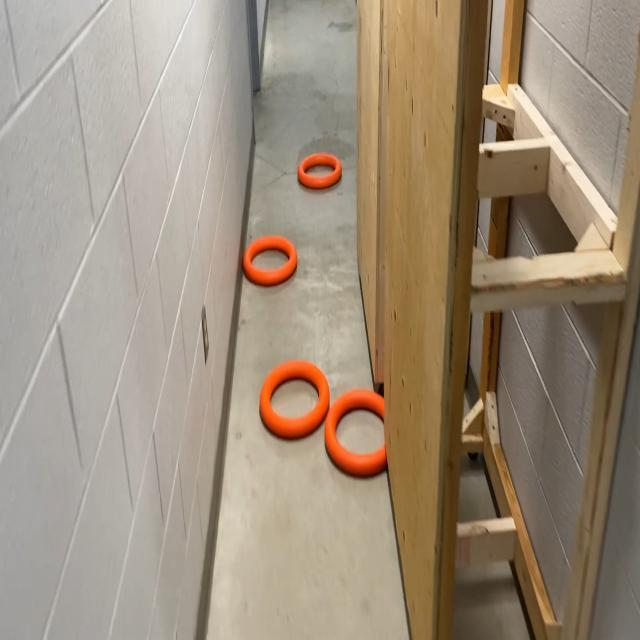note: (259, 357, 330, 443), (326, 388, 388, 478), (243, 233, 299, 286), (298, 150, 343, 192)
